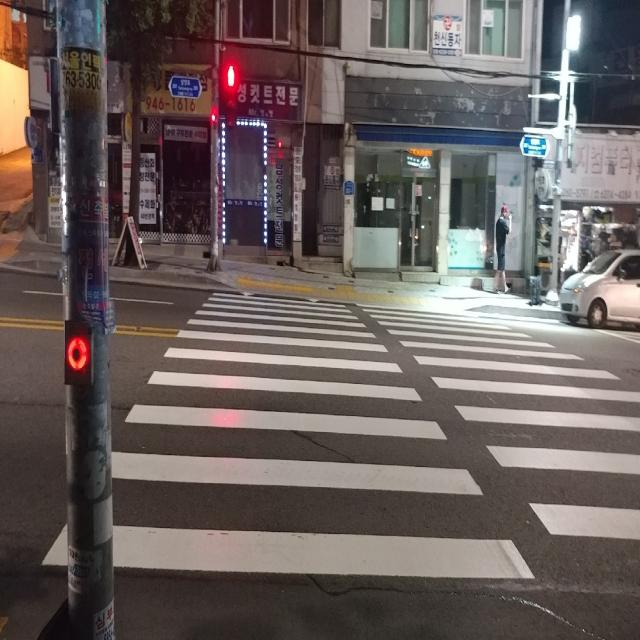빨간불: (224, 64, 238, 124)
횡단보도: (42, 290, 640, 581)
